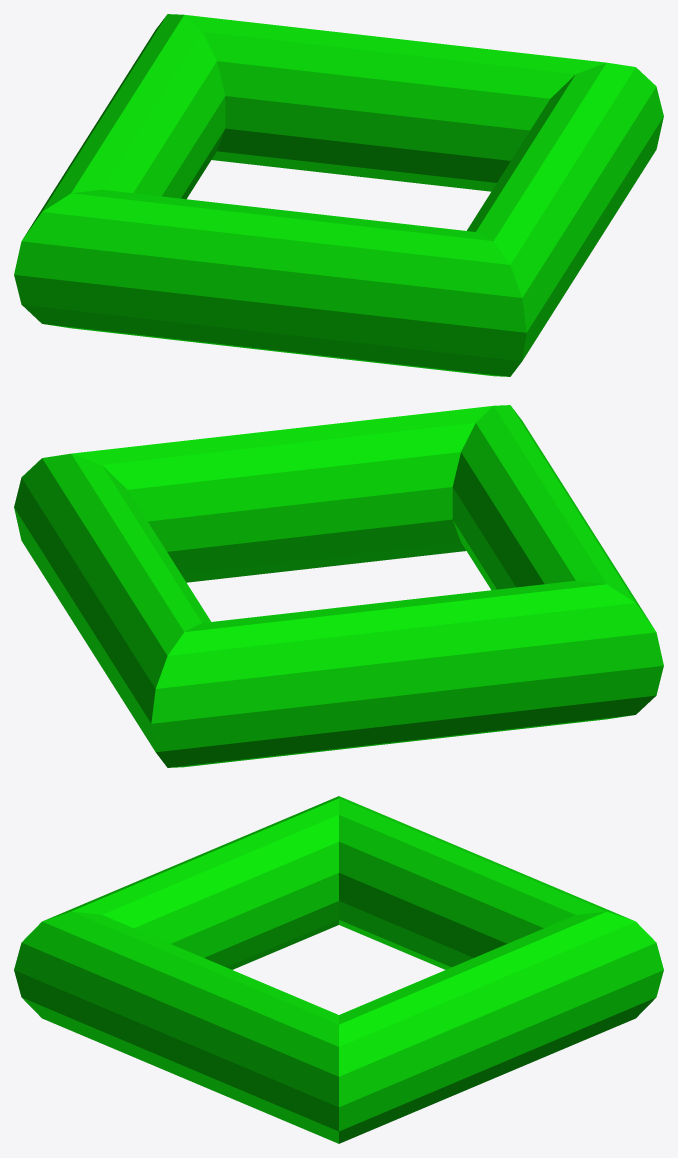
File: StackFallsDemo_Object_0.fbx
The picture shows the model from 3 angles, top to bottom: view 1: azimuth 30°, elevation 25°; view 2: azimuth 150°, elevation 25°; view 3: azimuth 270°, elevation 25°; orthographic projection. The views are drawn at different scales.
Visible parts, largest first — view 1: Torus.001, Torus.003, Torus.002, Torus.004; view 2: Torus.004, Torus.002, Torus.003, Torus.001; view 3: Torus.002, Torus.003, Torus.001, Torus.004.
Boxes of the visible parts, x1,y1,x2,y2 form: Torus.001: (14, 189, 526, 376); Torus.003: (185, 15, 605, 191); Torus.002: (467, 62, 663, 360); Torus.004: (23, 14, 225, 238); Torus.004: (151, 580, 663, 767); Torus.002: (72, 406, 492, 582); Torus.003: (14, 453, 210, 751); Torus.001: (452, 405, 654, 629); Torus.002: (14, 911, 338, 1143); Torus.003: (339, 911, 663, 1143); Torus.001: (44, 796, 338, 969); Torus.004: (339, 796, 633, 969).
Bounding box in the file's own units: 250 × 49.64 × 250.
